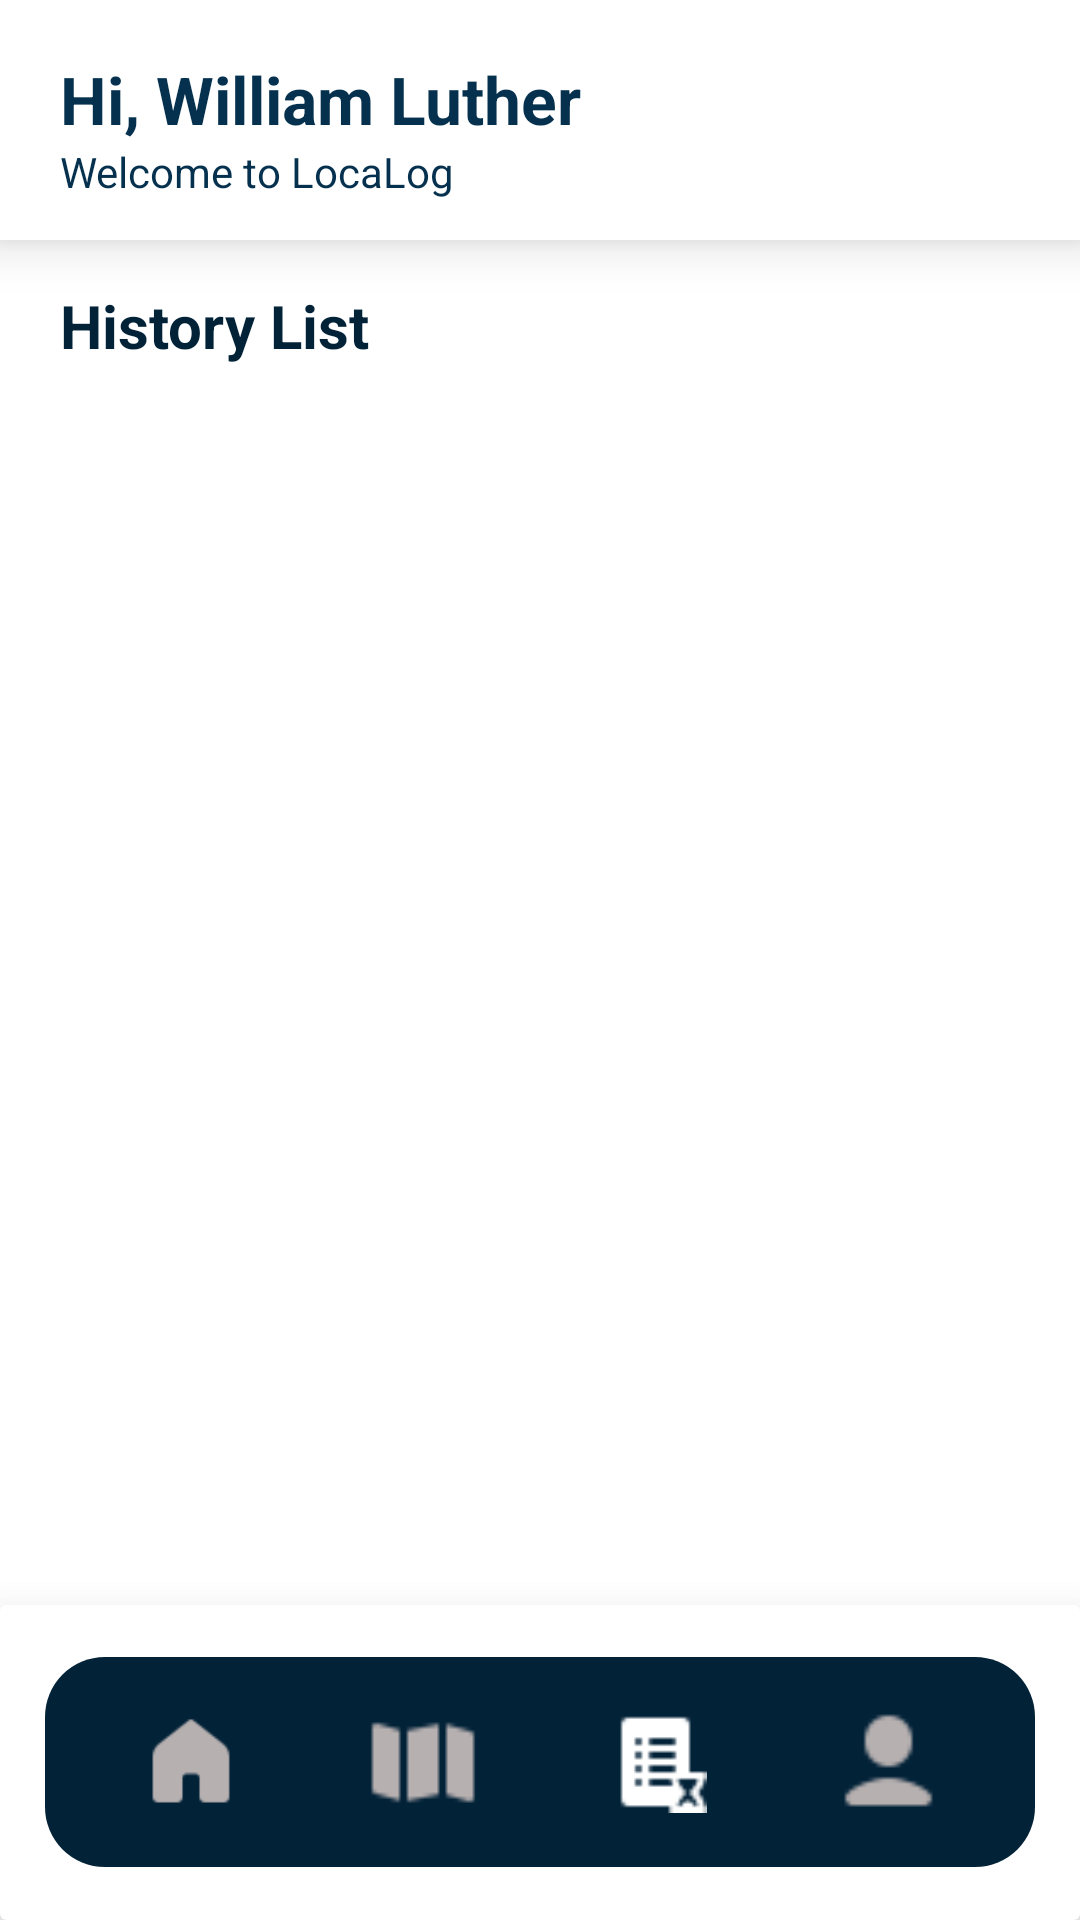

Where icons sit on this 1080px x 1920px app screen, as (x1, y1, x2, y2):
Account Icon: (844, 1714, 933, 1807)
History Icon: (620, 1716, 707, 1813)
Home Icon: (152, 1719, 230, 1803)
Map Icon: (371, 1722, 475, 1803)
